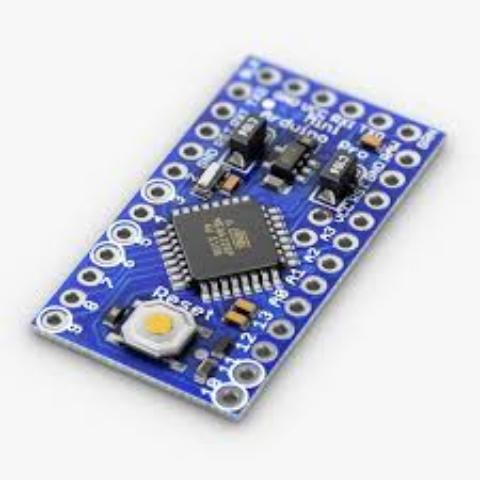Arduino-Pro-Mini: (22, 18, 454, 444)
